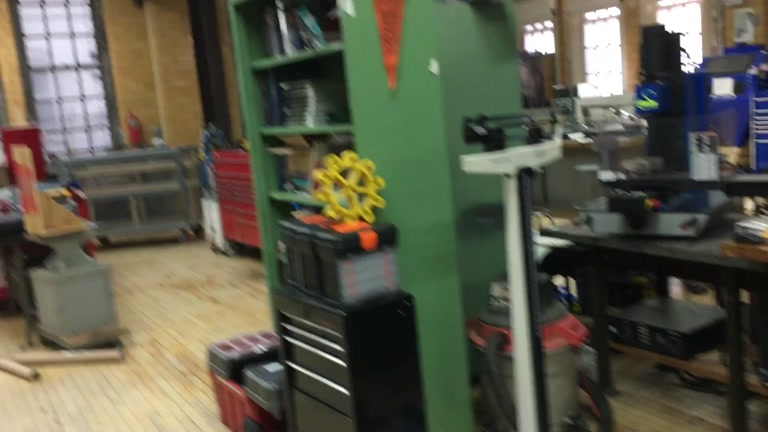gear: (312, 151, 387, 225)
